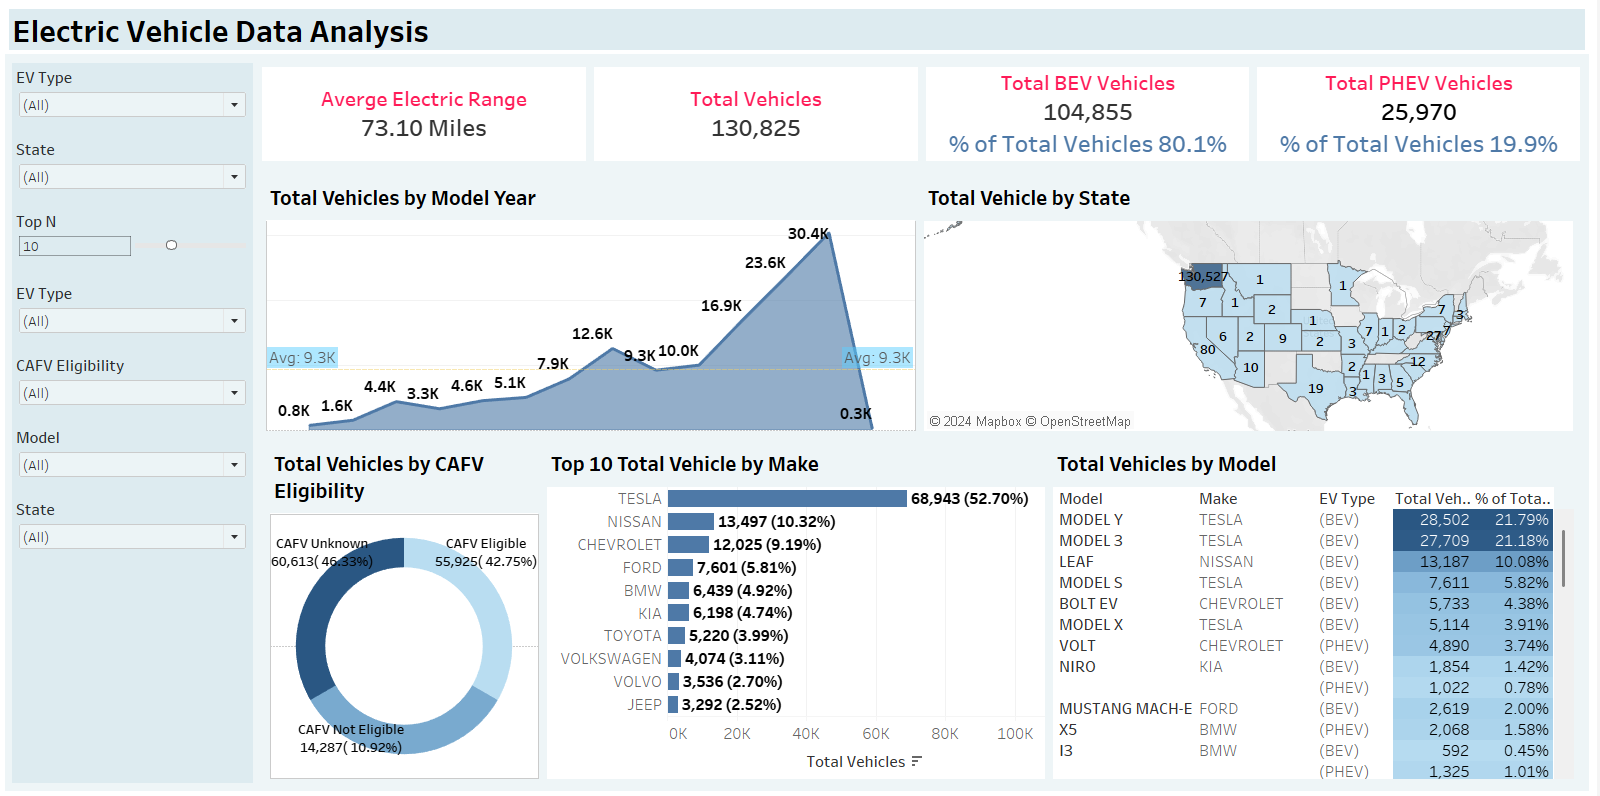

The dashboard page shown, as its layout file describes it:
{"tool":"tableau","page":{"name":"Electric Vehicle Data Analysis","canvas":[1000,1000],"units":"permille","ordinal":0},"visuals":[{"type":"title","box":[5,10,990,61.1]},{"type":"filter","title":"Top 10 Total Vehicles by Make","param":"[federated.03euxw206i783m1fkleut1t7z2cn].[none:Electric Vehicle Type:nk]","box":[9.4,82.3,150.6,89.8]},{"type":"worksheet","title":"Averge Electric Range","mark":"Automatic","box":[163.1,82.3,207.5,127.2]},{"type":"worksheet","title":"Total Vehicles","mark":"Automatic","box":[370.6,82.3,207.5,127.2]},{"type":"worksheet","title":"Totl BEV Vehicles","mark":"Automatic","box":[578.1,82.3,206.9,127.2]},{"type":"worksheet","title":"Totl PHEV Vehicles","mark":"Automatic","box":[785,82.3,206.9,127.2]},{"type":"filter","title":"Top 10 Total Vehicles by Make","param":"[federated.03euxw206i783m1fkleut1t7z2cn].[none:State:nk]","box":[9.4,172.1,150.6,89.8]},{"type":"worksheet","title":"Total Vehicles for Model Year","mark":"Area","rows":["Calculation_119626875602223104","Calculation_119626875602223104"],"cols":["Model Year"],"box":[165.6,222,411.2,324.2]},{"type":"worksheet","title":"Total Vehicle by State","mark":"Multipolygon","box":[576.9,222,410.6,324.2]},{"type":"parameter","param":"[Parameters].[Parameter 1]","box":[9.4,261.9,150.6,89.8]},{"type":"filter","title":"Total Vehicles for Model Year","param":"[federated.03euxw206i783m1fkleut1t7z2cn].[none:Electric Vehicle Type:nk]","box":[9.4,351.6,150.6,89.8]},{"type":"filter","title":"Total Vehicles for Model Year","param":"[federated.03euxw206i783m1fkleut1t7z2cn].[none:Clean Alternative Fuel Vehicle (C","box":[9.4,441.4,150.6,89.8]},{"type":"filter","title":"Total Vehicles for Model Year","param":"[federated.03euxw206i783m1fkleut1t7z2cn].[none:Model:nk]","box":[9.4,531.2,150.6,89.8]},{"type":"worksheet","title":"Total Vehicles by CAFV Eligibility","mark":"Pie","rows":["Calculation_119626875626807303","Calculation_119626875626807303"],"box":[168.1,553.6,173.1,426.4]},{"type":"worksheet","title":"Top 10 Total Vehicles by Make","mark":"Automatic","rows":["Make"],"cols":["Calculation_119626875602223104"],"box":[341.3,553.6,316.2,426.4]},{"type":"worksheet","title":"Total Vehicles by Model","mark":"Square","rows":["Model","Make","Electric Vehicle Type"],"box":[657.5,553.6,330.6,426.4]},{"type":"filter","title":"Total Vehicles for Model Year","param":"[federated.03euxw206i783m1fkleut1t7z2cn].[none:State:nk]","box":[9.4,621,150.6,89.8]},{"type":"blank","box":[9.4,710.7,150.6,89.8]},{"type":"blank","box":[9.4,800.5,150.6,89.8]},{"type":"blank","box":[9.4,890.3,150.6,89.8]}]}

Visuals, with their boxes on the dashboard's canvas, which has no fixed pixel size, in thousandths of its width and height (x1, y1, x2, y2). These are canvas units, not pixel positions in the 1600x796 screenshot, which may show the page scaled, cropped or inside an application window:
title: x1=5, y1=10, x2=995, y2=71
"Top 10 Total Vehicles by Make" filter: x1=9, y1=82, x2=160, y2=172
"Averge Electric Range" worksheet: x1=163, y1=82, x2=371, y2=210
"Total Vehicles" worksheet: x1=371, y1=82, x2=578, y2=210
"Totl BEV Vehicles" worksheet: x1=578, y1=82, x2=785, y2=210
"Totl PHEV Vehicles" worksheet: x1=785, y1=82, x2=992, y2=210
"Top 10 Total Vehicles by Make" filter: x1=9, y1=172, x2=160, y2=262
"Total Vehicles for Model Year" worksheet (Area marks): x1=166, y1=222, x2=577, y2=546
"Total Vehicle by State" worksheet (Multipolygon marks): x1=577, y1=222, x2=988, y2=546
parameter: x1=9, y1=262, x2=160, y2=352
"Total Vehicles for Model Year" filter: x1=9, y1=352, x2=160, y2=441
"Total Vehicles for Model Year" filter: x1=9, y1=441, x2=160, y2=531
"Total Vehicles for Model Year" filter: x1=9, y1=531, x2=160, y2=621
"Total Vehicles by CAFV Eligibility" worksheet (Pie marks): x1=168, y1=554, x2=341, y2=980
"Top 10 Total Vehicles by Make" worksheet: x1=341, y1=554, x2=658, y2=980
"Total Vehicles by Model" worksheet (Square marks): x1=658, y1=554, x2=988, y2=980
"Total Vehicles for Model Year" filter: x1=9, y1=621, x2=160, y2=711
blank: x1=9, y1=711, x2=160, y2=800
blank: x1=9, y1=800, x2=160, y2=890
blank: x1=9, y1=890, x2=160, y2=980
